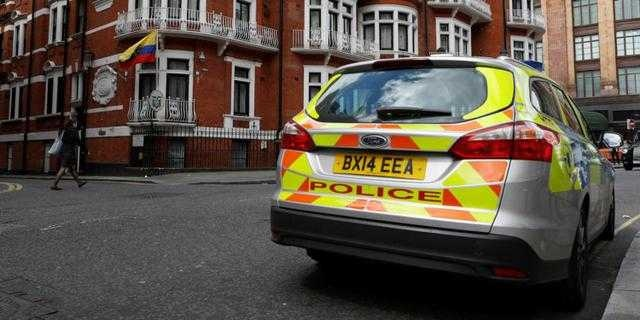Police Car: (257, 34, 620, 316)
